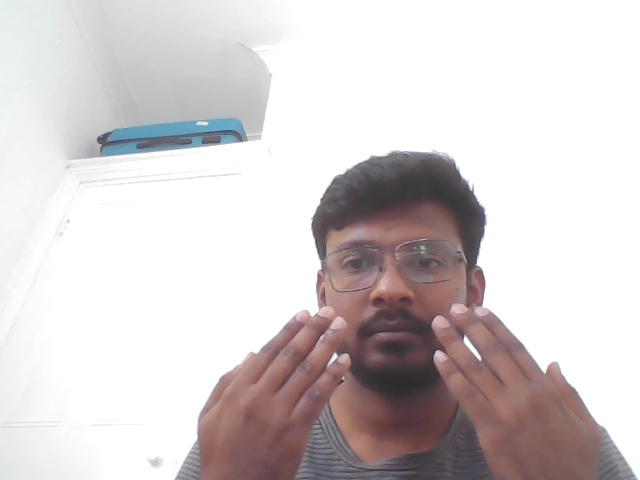Thank You: (186, 289, 612, 480)
